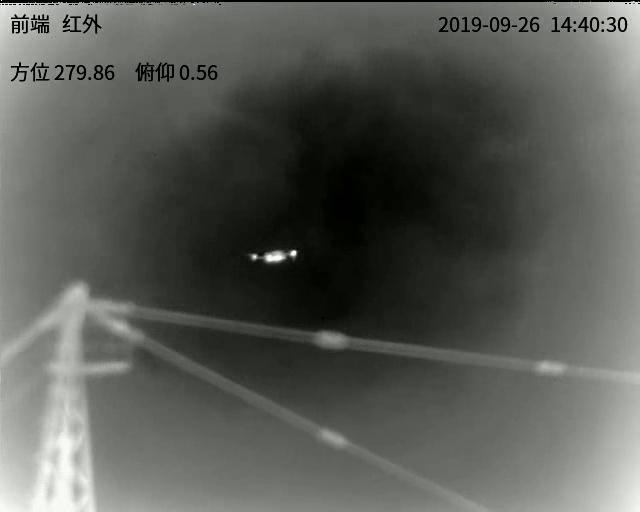DRONE: (248, 248, 298, 266)
